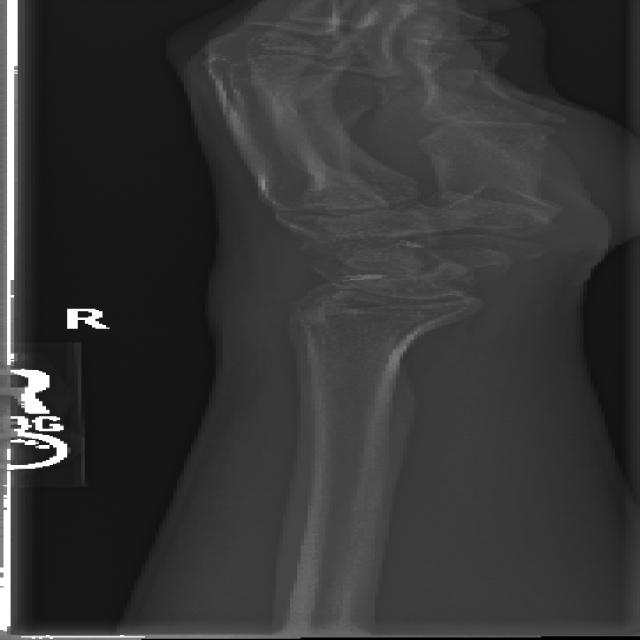fingers positive: (244, 262, 544, 345)
